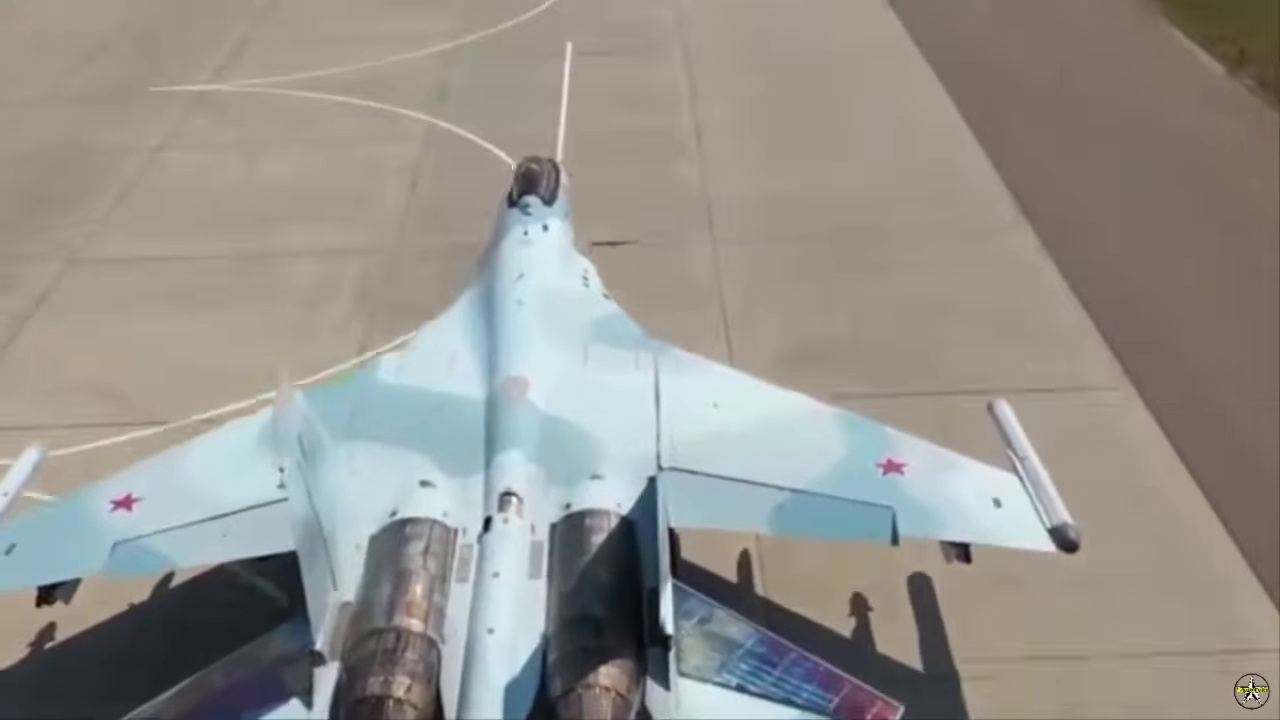Su35: (0, 144, 1082, 720)
